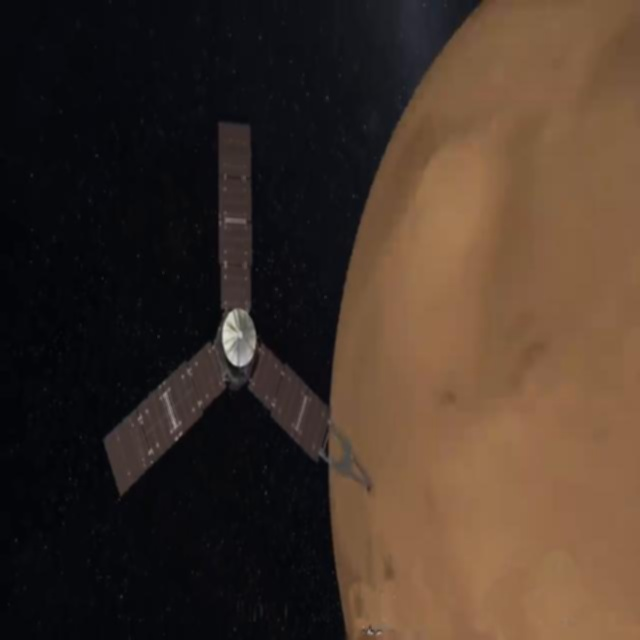satellite: (94, 110, 391, 519)
